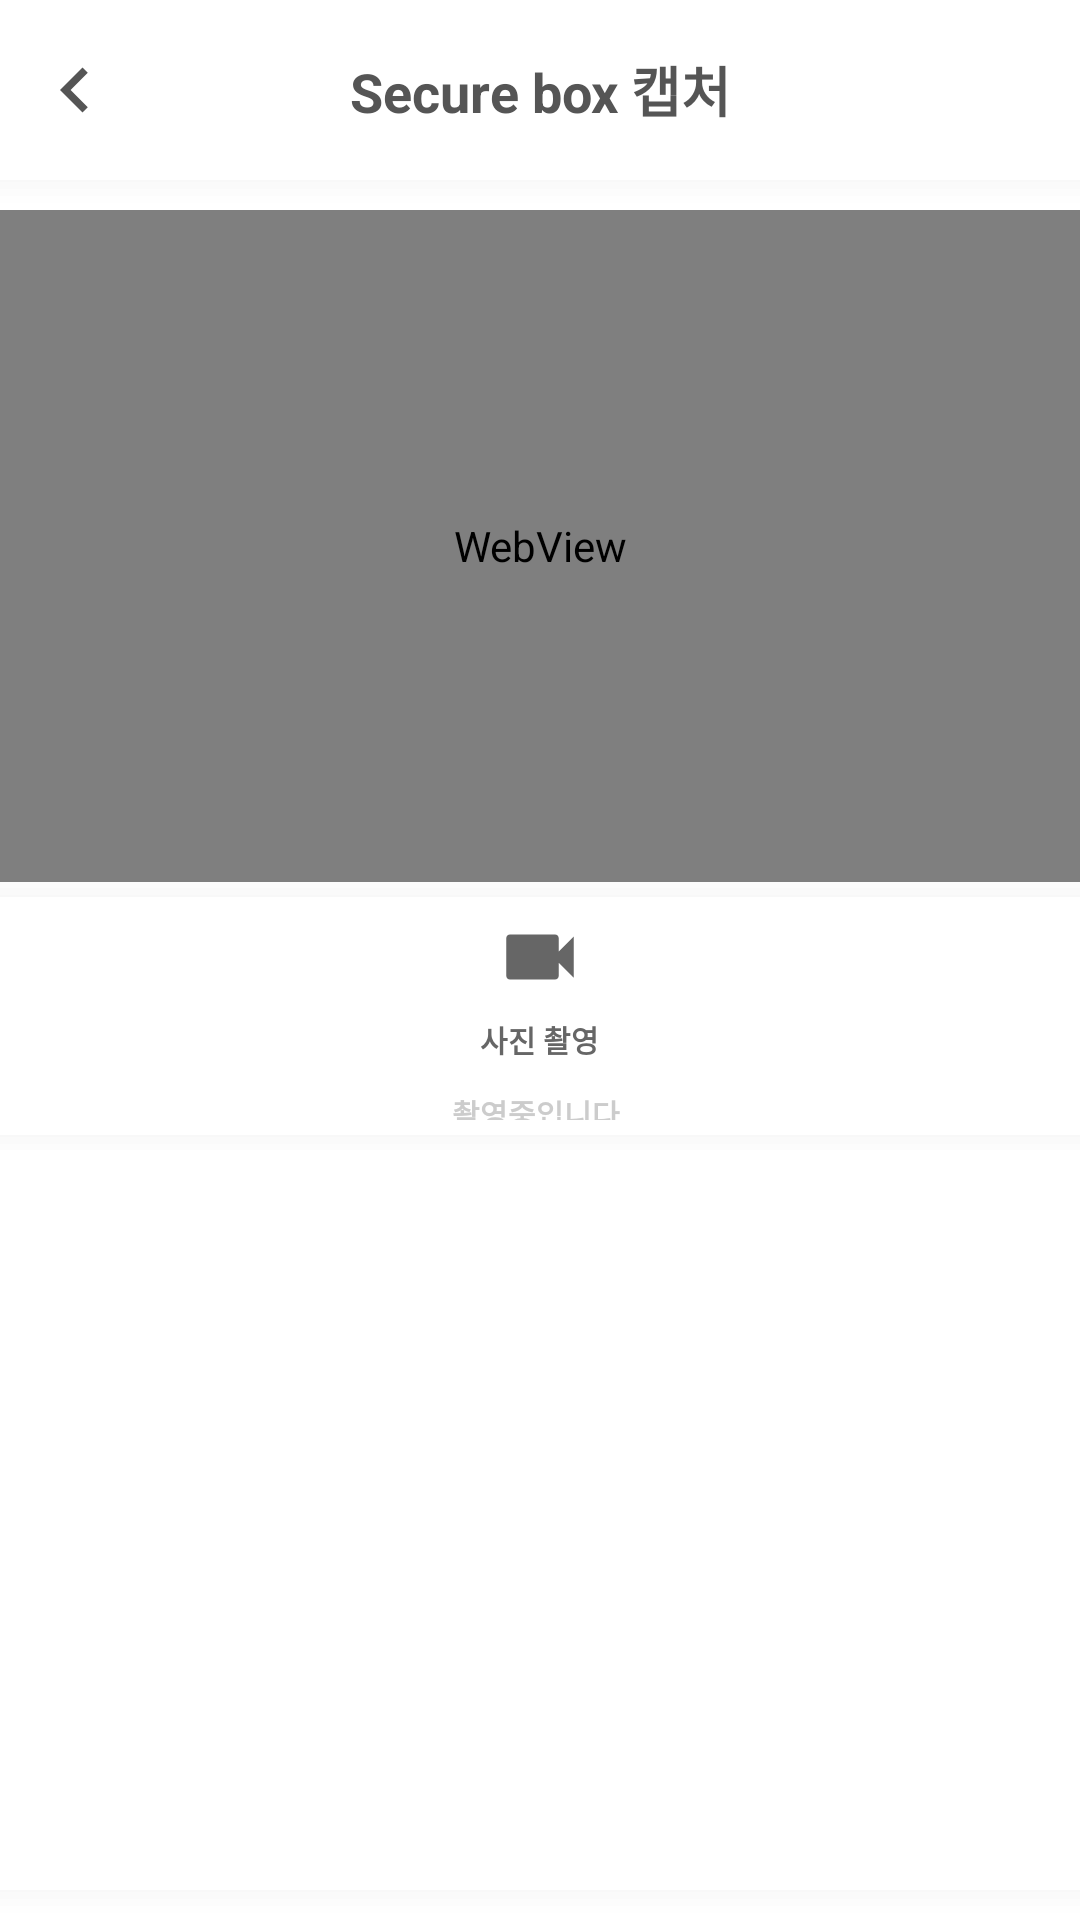

Where icons sit on this 1080w x 1920h app screen, as (x1, y1, x2, y2):
arrow back: (60, 67, 88, 113)
